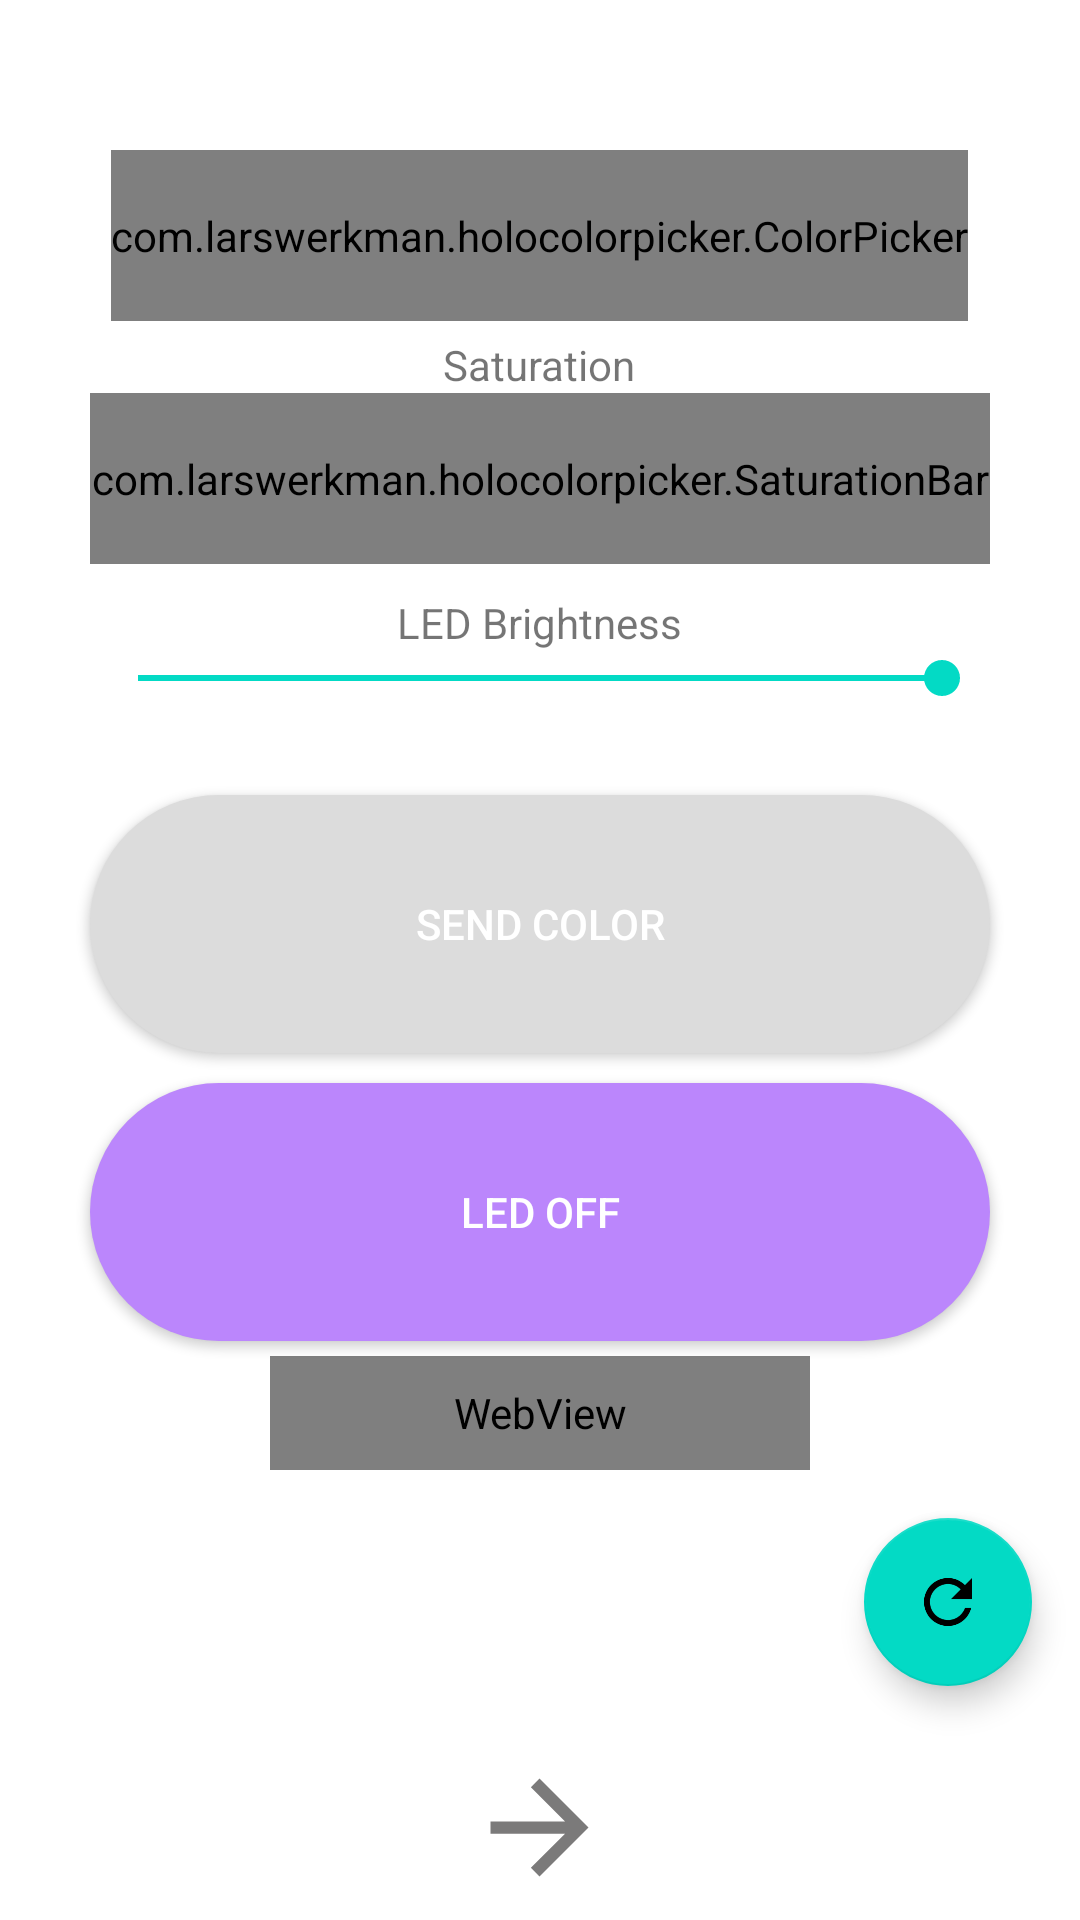

Screen size 1080px×1920px. Icon name, then its center in pixels as (x,y):
arrow forward: (539,1827)
refresh: (948,1602)
